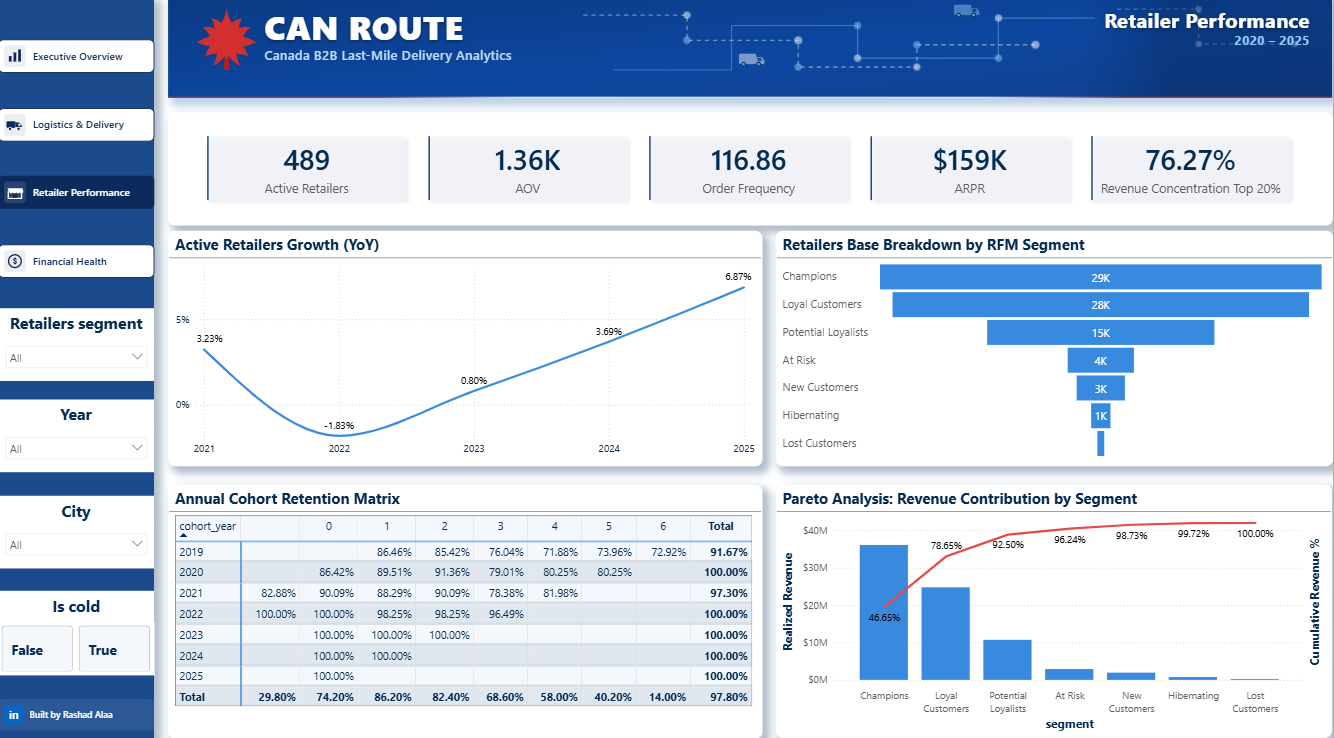

This screenshot's page, from the dashboard's own definition file:
{"tool":"powerbi","page":{"name":"Retailer Performance","canvas":[1800,1000],"ordinal":2},"visuals":[{"type":"cardVisual","fields":{"Data":["Measures Table.Active Customers Count","Measures Table.Average Order Value","Measures Table.Order Frequency","Measures Table.ARPR","_Measures Table.Revenue Concentration Top 20%"]},"box":[229.6,137.4,1570,155.8],"z":0},{"type":"shape","box":[0,0,210.7,1000.2],"z":1000},{"type":"advancedSlicerVisual","fields":{"Values":["dim_areas.is_cold"]},"box":[0.8,850.2,211.1,72.1],"z":2000},{"type":"slicer","fields":{"Values":["dim_areas.city"]},"box":[1.5,721.3,210.7,57.3],"z":3000},{"type":"textbox","box":[1.5,680.6,210.7,42.1],"z":4000},{"type":"textbox","box":[0.8,551.1,210.7,42.1],"z":5000},{"type":"textbox","box":[0.8,808.5,210.7,42.1],"z":6000},{"type":"lineClusteredColumnComboChart","title":"Pareto Analysis: Revenue Contribution by Segment","fields":{"Category":["dim_retailers.segment"],"Y":["_Measures Table.Realized Revenue"],"Y2":["_Measures Table.Cumulative Revenue %"]},"box":[1048.9,656.8,750.7,341.8],"z":7000},{"type":"funnel","title":"Retailers Base Breakdown by RFM Segment","fields":{"Category":["dim_retailers.segment"],"Y":["Measures Table.Total Orders"]},"box":[1048.9,310,750.7,323.4],"z":8000},{"type":"pivotTable","title":"Annual Cohort Retention Matrix","fields":{"Columns":["fact_orders.Years Since Cohort"],"Rows":["dim_retailers.cohort_year"],"Values":["_Measures Table.Retention %"]},"box":[229.3,656.9,801.7,343.1],"z":9000},{"type":"lineChart","title":"Active Retailers Growth (YoY)","fields":{"Category":["dim_date.year Hierarchy.year"],"Y":["_Measures Table.Active Retailers Growth %"]},"box":[229.6,310,800.9,323.4],"z":10000},{"type":"image","box":[229.6,0,1569.7,136.9],"z":11000},{"type":"image","box":[0,33.5,211.1,92.2],"z":12000},{"type":"image","box":[0,125.7,211.1,92.2],"z":13000},{"type":"image","box":[0,217.8,211.1,92.2],"z":14000},{"type":"image","box":[0,310,211.1,92.2],"z":15000},{"type":"image","box":[0,934.7,212.8,65.3],"z":16000},{"type":"slicer","fields":{"Values":["dim_retailers.segment"]},"box":[1.6,468.7,210.7,57.3],"z":17000},{"type":"textbox","box":[1.6,428.1,210.7,42.1],"z":18000},{"type":"slicer","fields":{"Values":["dim_date.year"]},"box":[0.8,591.8,210.7,57.3],"z":19000}]}

Visuals, with their boxes on the page's 1800x1000 design canvas (x1, y1, x2, y2). These are canvas units, not pixel positions in the 1334x738 screenshot, which may show the page scaled, cropped or inside an application window:
cardVisual - Measures Table.Active Customers Count x Measures Table.Average Order Value: pyautogui.locateOnScreen(230, 137, 1800, 293)
shape: pyautogui.locateOnScreen(0, 0, 211, 1000)
advancedSlicerVisual - dim_areas.is_cold: pyautogui.locateOnScreen(1, 850, 212, 922)
slicer - dim_areas.city: pyautogui.locateOnScreen(2, 721, 212, 779)
textbox: pyautogui.locateOnScreen(2, 681, 212, 723)
textbox: pyautogui.locateOnScreen(1, 551, 212, 593)
textbox: pyautogui.locateOnScreen(1, 808, 212, 851)
"Pareto Analysis: Revenue Contribution by Segment" lineClusteredColumnComboChart: pyautogui.locateOnScreen(1049, 657, 1800, 999)
"Retailers Base Breakdown by RFM Segment" funnel: pyautogui.locateOnScreen(1049, 310, 1800, 633)
"Annual Cohort Retention Matrix" pivotTable: pyautogui.locateOnScreen(229, 657, 1031, 1000)
"Active Retailers Growth (YoY)" lineChart: pyautogui.locateOnScreen(230, 310, 1030, 633)
image: pyautogui.locateOnScreen(230, 0, 1799, 137)
image: pyautogui.locateOnScreen(0, 34, 211, 126)
image: pyautogui.locateOnScreen(0, 126, 211, 218)
image: pyautogui.locateOnScreen(0, 218, 211, 310)
image: pyautogui.locateOnScreen(0, 310, 211, 402)
image: pyautogui.locateOnScreen(0, 935, 213, 1000)
slicer - dim_retailers.segment: pyautogui.locateOnScreen(2, 469, 212, 526)
textbox: pyautogui.locateOnScreen(2, 428, 212, 470)
slicer - dim_date.year: pyautogui.locateOnScreen(1, 592, 212, 649)
